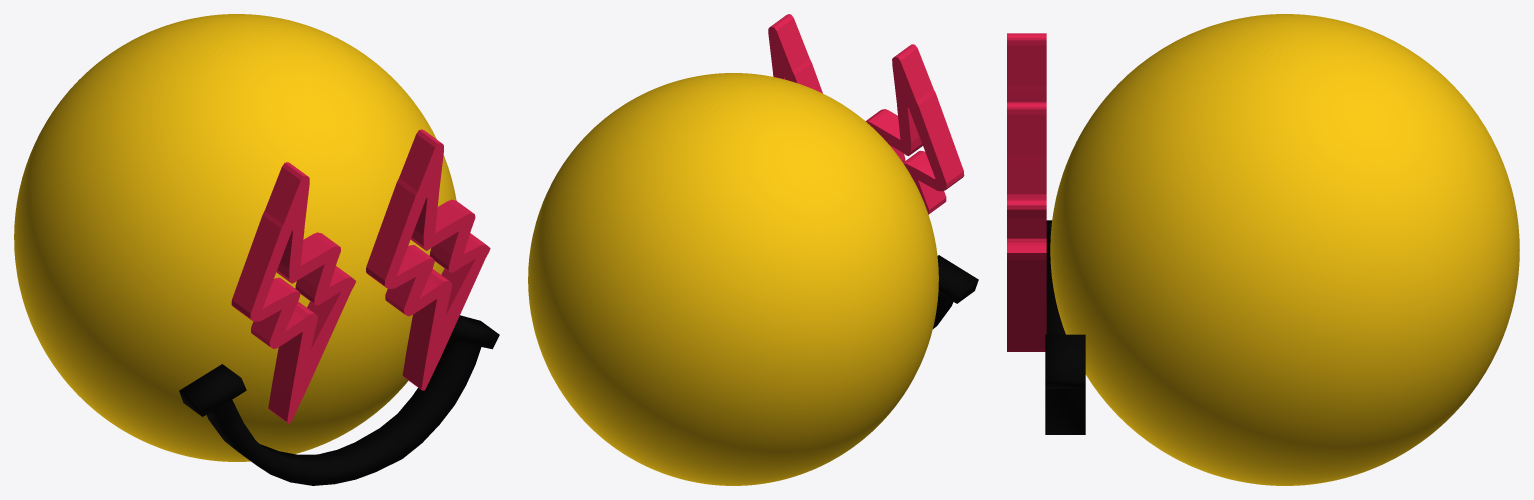
File: HAPPY.gltf
3 views of the same model, side by side, from view 1: azimuth 30°, elevation 25°; view 2: azimuth 150°, elevation 25°; view 3: azimuth 270°, elevation 25° (orthographic). The views are drawn at different scales.
Parts seen in each view (by area): view 1: PINK_BALL_1, BOLT_1, BOLT_2, SMILE; view 2: PINK_BALL_1, BOLT_1, BOLT_2, SMILE; view 3: PINK_BALL_1, BOLT_2, SMILE, BOLT_1.
Part boxes in pixels (x1,y1,x2,y2): PINK_BALL_1: [14, 14, 456, 461]; BOLT_1: [231, 162, 355, 423]; BOLT_2: [366, 129, 490, 390]; SMILE: [179, 315, 499, 485]; PINK_BALL_1: [528, 73, 938, 485]; BOLT_1: [865, 44, 964, 214]; BOLT_2: [768, 14, 822, 93]; SMILE: [933, 255, 978, 328]; PINK_BALL_1: [1050, 14, 1519, 485]; BOLT_2: [1007, 102, 1046, 351]; SMILE: [1045, 220, 1085, 434]; BOLT_1: [1007, 33, 1046, 102].
Bounding box in the file's own units: 5.72 × 5.78 × 6.25.
